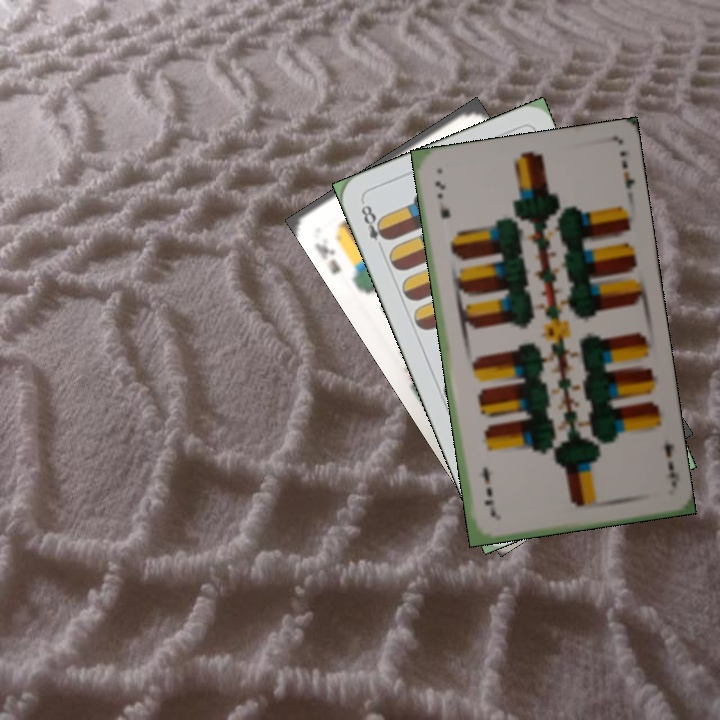E7: (660, 439, 682, 490), (431, 177, 453, 221)
E8: (357, 201, 392, 255)
EK: (310, 239, 343, 277)
